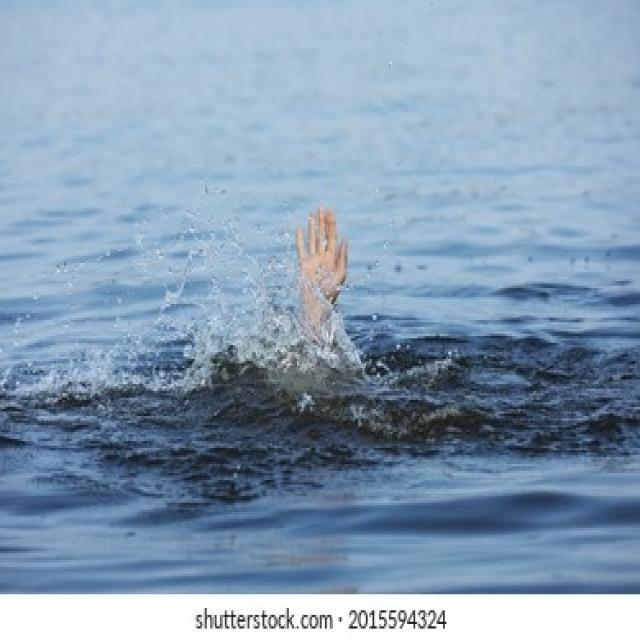drowning: (198, 192, 396, 496)
